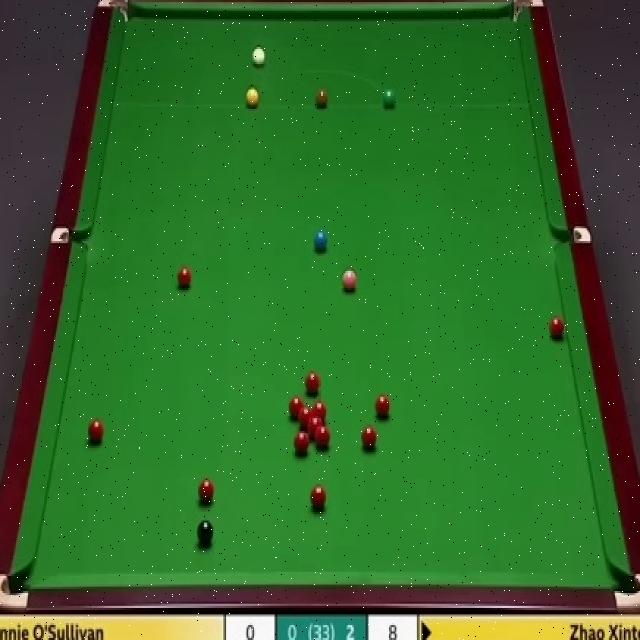black-ball: (197, 519, 216, 543)
blue-ball: (313, 228, 328, 255)
brown-ball: (314, 88, 328, 108)
green-ball: (382, 88, 397, 108)
pink-ball: (342, 271, 358, 294)
red-ball: (287, 393, 306, 420), (85, 416, 103, 443), (310, 484, 328, 511), (372, 394, 392, 418), (360, 425, 378, 451), (198, 477, 216, 503), (303, 371, 323, 394), (548, 316, 565, 342), (314, 427, 331, 451), (294, 430, 310, 455), (312, 402, 328, 426), (298, 407, 314, 430), (177, 268, 192, 288), (307, 418, 322, 436)
white-ball: (251, 48, 266, 66)
yellow-ball: (245, 88, 259, 108)
